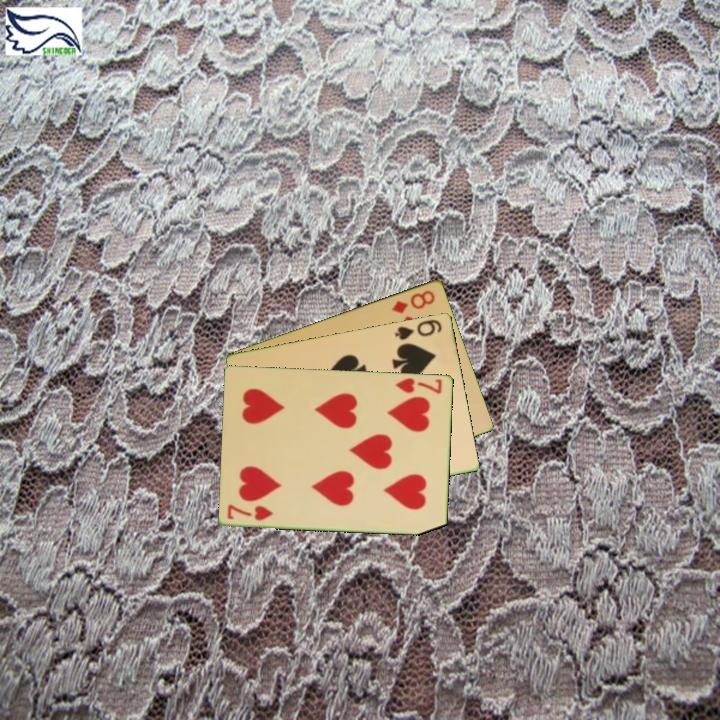6s: (391, 315, 445, 343)
7h: (393, 374, 445, 397), (224, 501, 276, 523)
8d: (388, 286, 438, 316)
